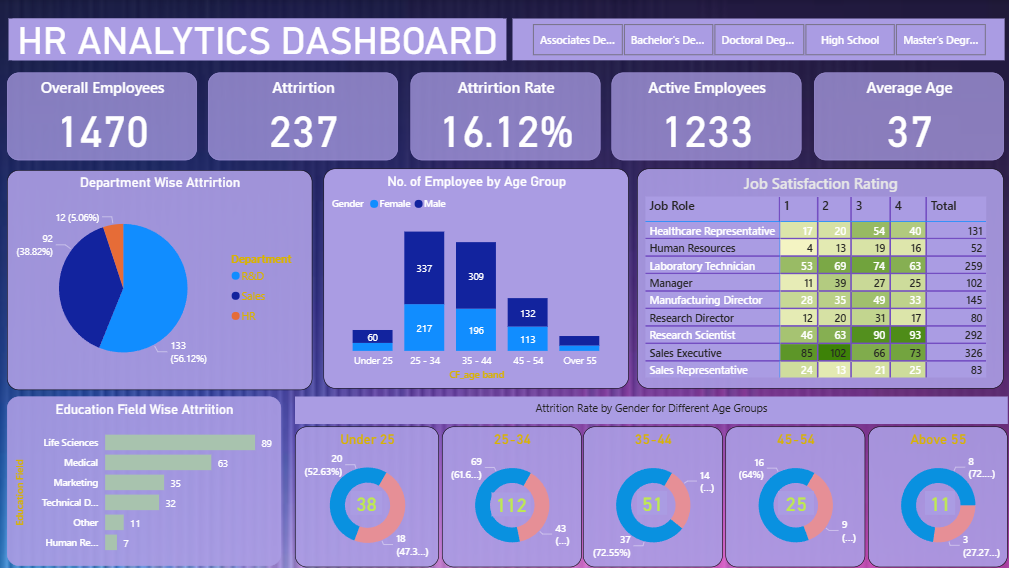

Layout of this report page (visuals, bound fields, positions):
{"tool":"powerbi","page":{"name":"Page 1","canvas":[1280,720],"ordinal":0},"visuals":[{"type":"card","title":"Overall Employees","fields":{"Values":["Sum(Data.Employee Count)"]},"box":[12.1,92.4,239.2,110.5],"z":0},{"type":"card","title":"Attrirtion","fields":{"Values":["Sum(Data.Attrition Count)"]},"box":[265,92.4,239.2,110.5],"z":1000},{"type":"card","title":"Attrirtion Rate","fields":{"Values":["Data.Attrirtion Rate"]},"box":[519.4,92.4,239.2,110.5],"z":2000},{"type":"card","title":"Active Employees","fields":{"Values":["Data.Active Employees"]},"box":[772.2,92.4,239.2,110.5],"z":3000},{"type":"card","title":"Average Age","fields":{"Values":["Avg(Data.Age)"]},"box":[1028.1,92.4,239.2,110.5],"z":4000},{"type":"pieChart","title":"Department Wise Attrirtion","fields":{"Category":["Data.Department"],"Y":["Sum(Data.Attrition Count)"]},"box":[12.1,215,384.6,277.1],"z":5000},{"type":"columnChart","title":"No. of Employee by Age Group","fields":{"Category":["Data.CF_age band"],"Y":["Sum(Data.Employee Count)"],"Series":["Data.Gender"]},"box":[410.3,213.5,384.6,277.1],"z":6000},{"type":"pivotTable","title":"Job Satisfaction Rating","fields":{"Rows":["Data.Job Role"],"Columns":["Data.Job Satisfaction"],"Values":["Sum(Data.Employee Count)"]},"box":[805.6,213.5,461.8,277.1],"z":7000},{"type":"barChart","title":"Education Field Wise Attriition","fields":{"Category":["Data.Education Field"],"Y":["Sum(Data.Attrition Count)"]},"box":[12.1,501.2,345.2,213.5],"z":8000},{"type":"donutChart","title":"Under 25","fields":{"Category":["Data.Gender"],"Y":["Sum(Data.Attrition Count)"],"Series":["Data.CF_age band"]},"box":[374.2,538.6,181.4,177.6],"z":9000},{"type":"textbox","box":[374,501.2,897.9,34.8],"z":10000},{"type":"donutChart","title":"25-34","fields":{"Category":["Data.Gender"],"Y":["Sum(Data.Attrition Count)"],"Series":["Data.CF_age band"]},"box":[559.4,538.6,175.7,177.6],"z":11000},{"type":"donutChart","title":"35-44","fields":{"Category":["Data.Gender"],"Y":["Sum(Data.Attrition Count)"],"Series":["Data.CF_age band"]},"box":[737,538.6,175.7,177.6],"z":12000},{"type":"donutChart","title":"45-54","fields":{"Category":["Data.Gender"],"Y":["Sum(Data.Attrition Count)"],"Series":["Data.CF_age band"]},"box":[916.5,538.6,175.7,177.6],"z":13000},{"type":"donutChart","title":"Above 55","fields":{"Category":["Data.Gender"],"Y":["Sum(Data.Attrition Count)"],"Series":["Data.CF_age band"]},"box":[1096.1,538.6,175.7,177.6],"z":14000},{"type":"card","fields":{"Values":["Sum(Data.Attrition Count)"]},"box":[444.1,619.8,39.7,30.2],"z":14001},{"type":"card","fields":{"Values":["Sum(Data.Attrition Count)"]},"box":[621.7,621.7,49.1,30.2],"z":14002},{"type":"card","fields":{"Values":["Sum(Data.Attrition Count)"]},"box":[805,619.8,37.8,30.2],"z":14003},{"type":"card","fields":{"Values":["Sum(Data.Attrition Count)"]},"box":[982.7,619.8,45.4,30.2],"z":14004},{"type":"card","fields":{"Values":["Sum(Data.Attrition Count)"]},"box":[1167.9,619.8,37.8,30.2],"z":14005},{"type":"textbox","title":"HR ANALYTICS DASHBOARD","box":[13.2,24.6,627.4,52.9],"z":14006},{"type":"slicer","fields":{"Values":["Data.Education"]},"box":[648.2,24.6,619.8,52.9],"z":14007}]}

Visuals, with their boxes in screenshot pixels (x1, y1, x2, y2), scaled from the page's 1280x720 canvas onto the 1009x568 screenshot:
"Overall Employees" card: BBox(10, 73, 198, 160)
"Attrirtion" card: BBox(209, 73, 397, 160)
"Attrirtion Rate" card: BBox(409, 73, 598, 160)
"Active Employees" card: BBox(609, 73, 797, 160)
"Average Age" card: BBox(810, 73, 999, 160)
"Department Wise Attrirtion" pieChart: BBox(10, 170, 313, 388)
"No. of Employee by Age Group" columnChart: BBox(323, 168, 627, 387)
"Job Satisfaction Rating" pivotTable: BBox(635, 168, 999, 387)
"Education Field Wise Attriition" barChart: BBox(10, 395, 282, 564)
"Under 25" donutChart: BBox(295, 425, 438, 565)
textbox: BBox(295, 395, 1003, 423)
"25-34" donutChart: BBox(441, 425, 579, 565)
"35-44" donutChart: BBox(581, 425, 719, 565)
"45-54" donutChart: BBox(722, 425, 861, 565)
"Above 55" donutChart: BBox(864, 425, 1003, 565)
card - Sum(Data.Attrition Count): BBox(350, 489, 381, 513)
card - Sum(Data.Attrition Count): BBox(490, 490, 529, 514)
card - Sum(Data.Attrition Count): BBox(635, 489, 664, 513)
card - Sum(Data.Attrition Count): BBox(775, 489, 810, 513)
card - Sum(Data.Attrition Count): BBox(921, 489, 950, 513)
"HR ANALYTICS DASHBOARD" textbox: BBox(10, 19, 505, 61)
slicer - Data.Education: BBox(511, 19, 1000, 61)
